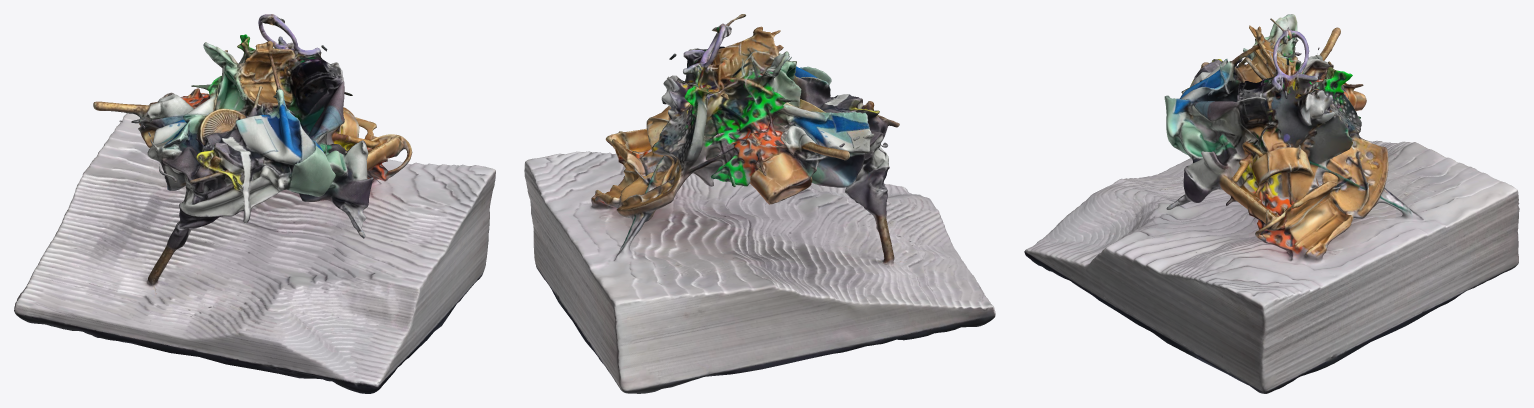
The model's file is study-01-web.glb.
3 views of the same model, side by side, from view 1: azimuth 30°, elevation 25°; view 2: azimuth 150°, elevation 25°; view 3: azimuth 270°, elevation 25° (orthographic). The views are drawn at different scales.
Bounding box in the file's own units: 1 × 0.624 × 0.9811.
1 material, 1 textured.
